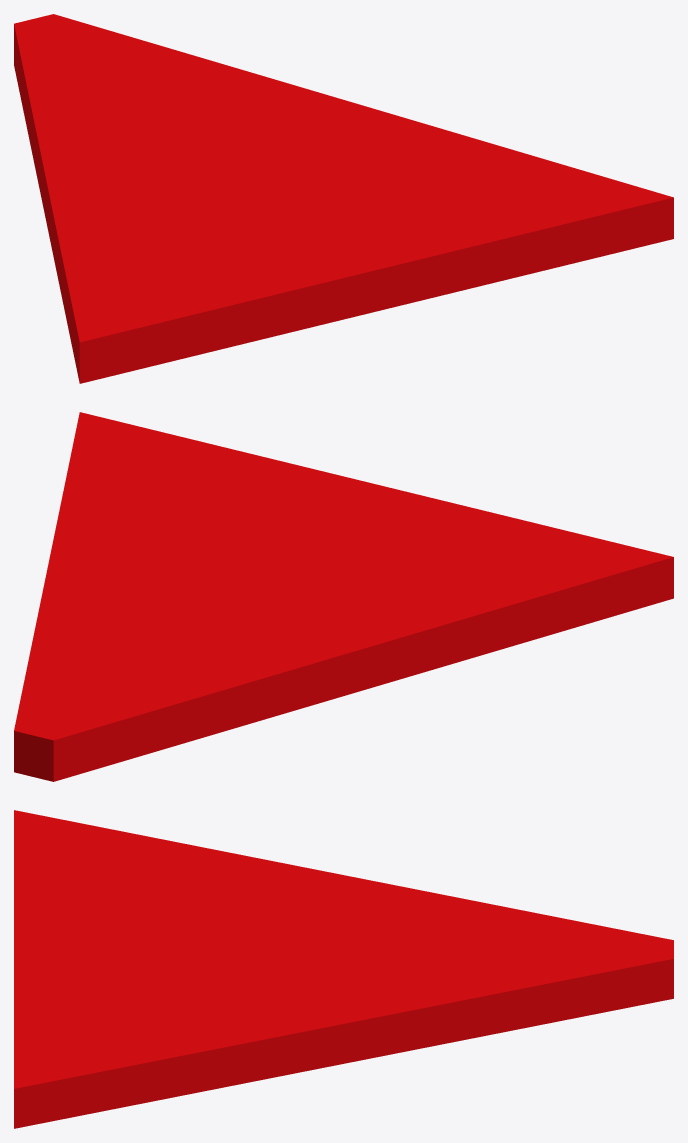
File: playerPrototype.gltf
The picture shows the model from 3 angles, top to bottom: view 1: azimuth 30°, elevation 25°; view 2: azimuth 150°, elevation 25°; view 3: azimuth 270°, elevation 25°; orthographic projection. The views are drawn at different scales.
Visible parts, largest first — view 1: Cube; view 2: Cube; view 3: Cube.
Boxes of the visible parts, x1,y1,x2,y2 form: Cube: (14, 14, 673, 383); Cube: (14, 412, 673, 781); Cube: (14, 810, 673, 1128).
Size of the model in its own units: 2 by 0.1335 by 2.
